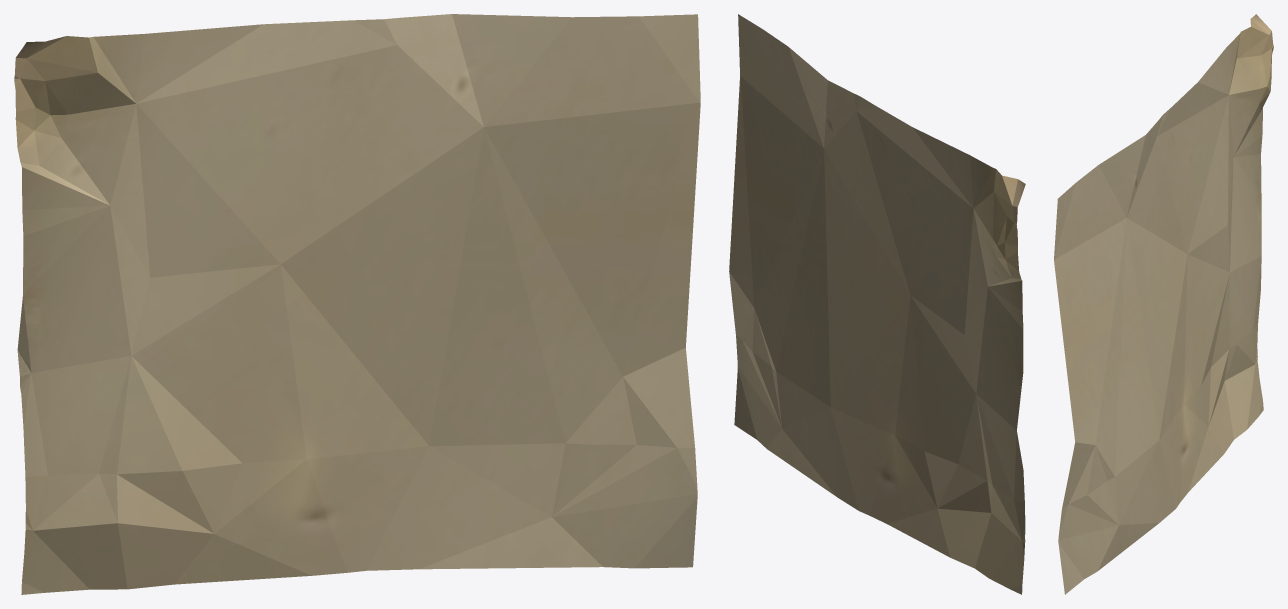
The picture shows the model from 3 angles, left to right: view 1: azimuth 30°, elevation 25°; view 2: azimuth 150°, elevation 25°; view 3: azimuth 270°, elevation 25°; orthographic projection. The views are drawn at different scales.
Bounding box in the file's own units: 0.8373 × 0.8374 × 0.4214.
Materials: 3 (3 with a texture image).
